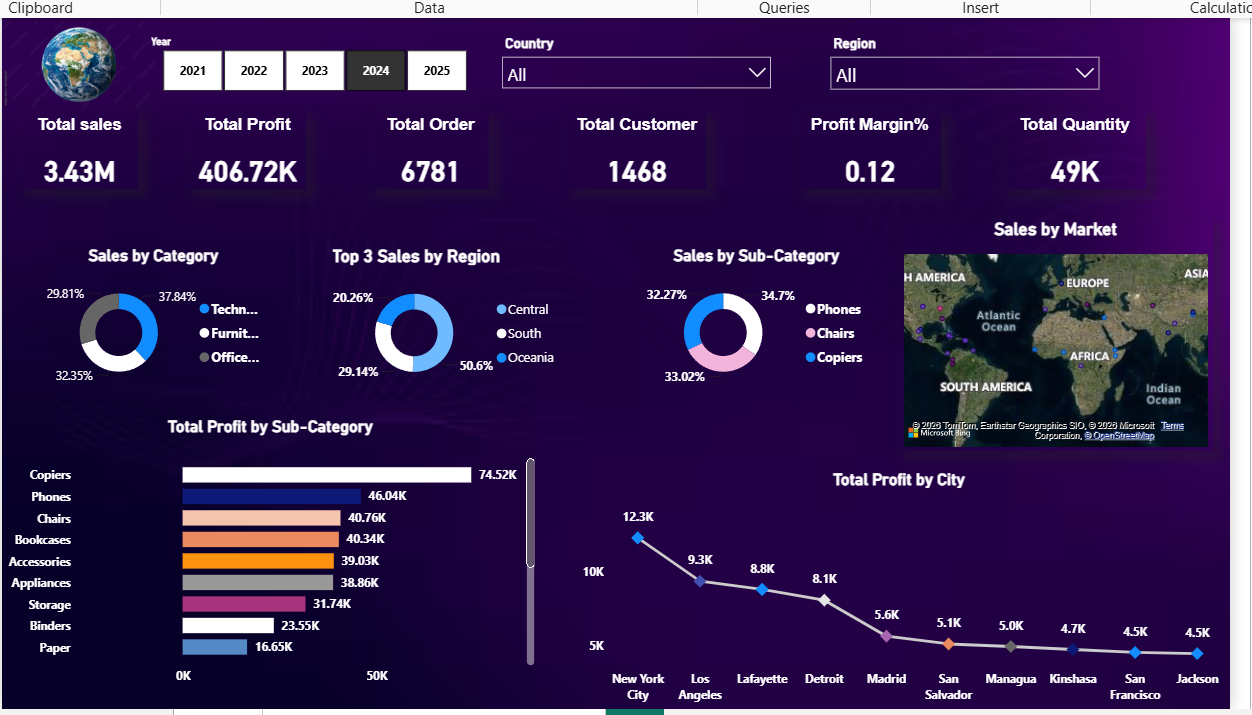

The dashboard page shown, as its layout file describes it:
{"tool":"powerbi","page":{"name":"Global superstore Perfomance","canvas":[1280,720],"ordinal":1},"visuals":[{"type":"image","box":[0,0,161,96.9],"z":0},{"type":"map","title":"Sales by  Market","fields":{"Category":["Orders.Country"],"Series":["Orders.Market"]},"box":[934.7,209.4,326.7,242.3],"z":1000},{"type":"card","title":"Total sales","fields":{"Values":["measures_table.total_sales"]},"box":[18.8,96.9,123.5,81],"z":2000},{"type":"card","title":"Total Order","fields":{"Values":["measures_table.total_order"]},"box":[384.5,96.9,123.5,81],"z":3000},{"type":"card","title":"Total Profit","fields":{"Values":["measures_table.total_profit"]},"box":[193.8,96.9,123.5,81],"z":4000},{"type":"card","title":"Total Quantity","fields":{"Values":["measures_table.Total_qnty"]},"box":[1042.5,96.9,150,81.3],"z":5000},{"type":"card","title":"Profit Margin%","fields":{"Values":["measures_table.profit_margin%"]},"box":[829.9,96.9,148.5,81.3],"z":6000},{"type":"card","title":"Total Customer","fields":{"Values":["measures_table.total_customer"]},"box":[589.2,96.9,143.8,81.3],"z":7000},{"type":"donutChart","title":"Sales by Category","fields":{"Category":["Orders.Category"],"Y":["Sum(Orders.Sales)"]},"box":[32.8,237.6,250.1,150],"z":8000},{"type":"donutChart","title":"Top 3 Sales by Region","fields":{"Category":["Orders.Region"],"Y":["Sum(Orders.Sales)"]},"box":[339.2,237.6,250,150],"z":9000},{"type":"donutChart","title":" Sales by Sub-Category","fields":{"Y":["Sum(Orders.Sales)"],"Category":["Orders.Sub-Category"]},"box":[661.1,237.6,250,150],"z":10000},{"type":"clusteredBarChart","title":"Total Profit by Sub-Category","fields":{"Category":["Orders.Sub-Category"],"Y":["Sum(Orders.Profit)"]},"box":[0,415.8,559.5,287.6],"z":11000},{"type":"lineChart","title":"Total Profit by City","fields":{"Category":["Orders.City"],"Y":["Sum(Orders.Profit)"]},"box":[589.2,470.5,690.8,250.1],"z":12000},{"type":"slicer","fields":{"Values":["date_table.Year"]},"box":[142.2,12.5,365.7,70.3],"z":13000},{"type":"slicer","fields":{"Values":["Orders.Country"]},"box":[511.1,12.5,300.1,70.3],"z":14000},{"type":"slicer","fields":{"Values":["Orders.Region"]},"box":[853.4,12.5,300.1,70.3],"z":15000}]}

Visuals, with their boxes on the page's 1280x720 design canvas (x1, y1, x2, y2). These are canvas units, not pixel positions in the 1252x715 screenshot, which may show the page scaled, cropped or inside an application window:
image: {"x1": 0, "y1": 0, "x2": 161, "y2": 97}
"Sales by  Market" map: {"x1": 935, "y1": 209, "x2": 1261, "y2": 452}
"Total sales" card: {"x1": 19, "y1": 97, "x2": 142, "y2": 178}
"Total Order" card: {"x1": 384, "y1": 97, "x2": 508, "y2": 178}
"Total Profit" card: {"x1": 194, "y1": 97, "x2": 317, "y2": 178}
"Total Quantity" card: {"x1": 1042, "y1": 97, "x2": 1192, "y2": 178}
"Profit Margin%" card: {"x1": 830, "y1": 97, "x2": 978, "y2": 178}
"Total Customer" card: {"x1": 589, "y1": 97, "x2": 733, "y2": 178}
"Sales by Category" donutChart: {"x1": 33, "y1": 238, "x2": 283, "y2": 388}
"Top 3 Sales by Region" donutChart: {"x1": 339, "y1": 238, "x2": 589, "y2": 388}
" Sales by Sub-Category" donutChart: {"x1": 661, "y1": 238, "x2": 911, "y2": 388}
"Total Profit by Sub-Category" clusteredBarChart: {"x1": 0, "y1": 416, "x2": 560, "y2": 703}
"Total Profit by City" lineChart: {"x1": 589, "y1": 470, "x2": 1280, "y2": 721}
slicer - date_table.Year: {"x1": 142, "y1": 12, "x2": 508, "y2": 83}
slicer - Orders.Country: {"x1": 511, "y1": 12, "x2": 811, "y2": 83}
slicer - Orders.Region: {"x1": 853, "y1": 12, "x2": 1154, "y2": 83}
